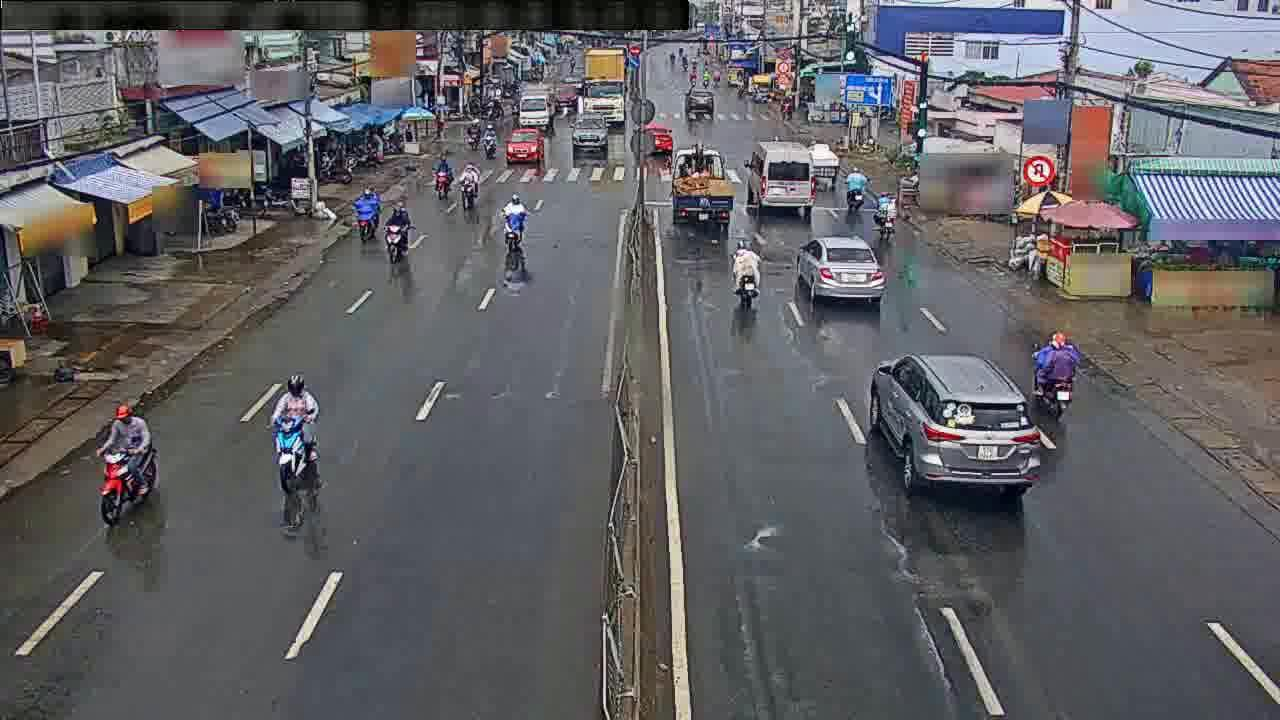car: (863, 354, 1043, 497), (568, 112, 613, 156), (505, 125, 544, 168)
container: (670, 148, 731, 226)
motorbike: (88, 403, 165, 521), (270, 376, 318, 490), (1034, 328, 1080, 416), (726, 240, 765, 301), (498, 193, 529, 258), (378, 202, 412, 261), (352, 183, 384, 241), (871, 189, 904, 241), (838, 164, 870, 209), (457, 166, 479, 209), (432, 154, 449, 202)
passenger_car: (748, 140, 816, 213)
